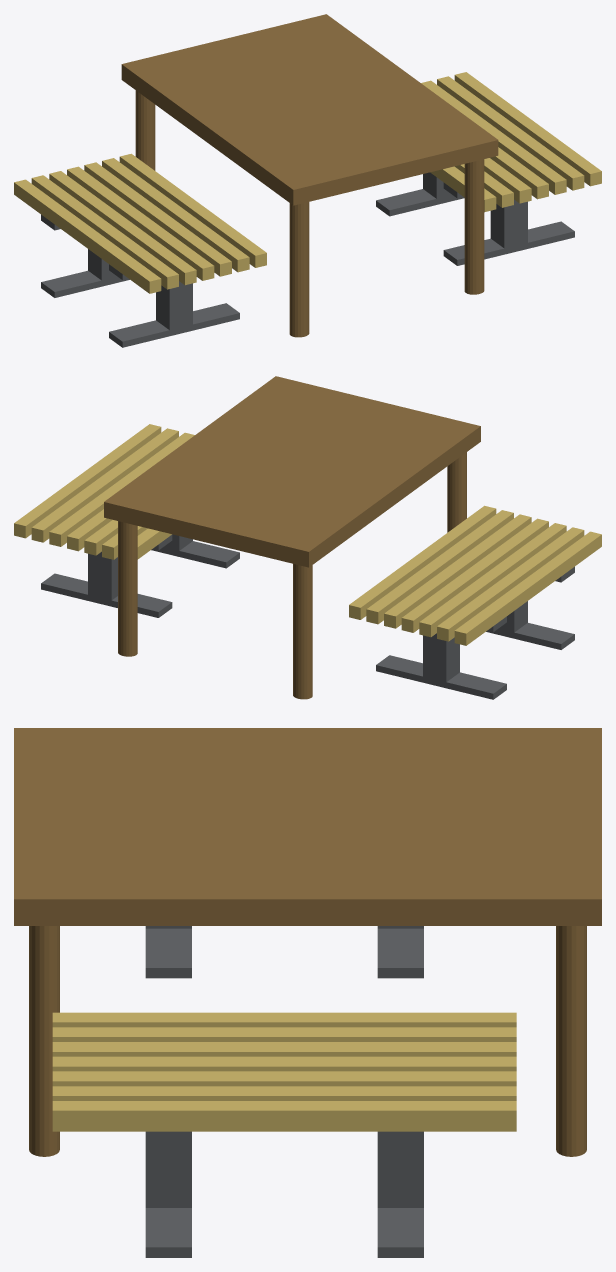
File: Picnic_bench.glb
The picture shows the model from 3 angles, top to bottom: view 1: azimuth 30°, elevation 25°; view 2: azimuth 150°, elevation 25°; view 3: azimuth 270°, elevation 25°; orthographic projection. The views are drawn at different scales.
Visible parts, largest first — view 1: Mesh_Mesh_head_geo.001_lambert2SG.001; view 2: Mesh_Mesh_head_geo.001_lambert2SG.001; view 3: Mesh_Mesh_head_geo.001_lambert2SG.001.
Boxes of the visible parts, x1,y1,x2,y2 form: Mesh_Mesh_head_geo.001_lambert2SG.001: (14, 14, 601, 347); Mesh_Mesh_head_geo.001_lambert2SG.001: (14, 376, 601, 699); Mesh_Mesh_head_geo.001_lambert2SG.001: (14, 728, 601, 1257).
Size of the model in its own units: 0.077 by 0.025 by 0.0507.
